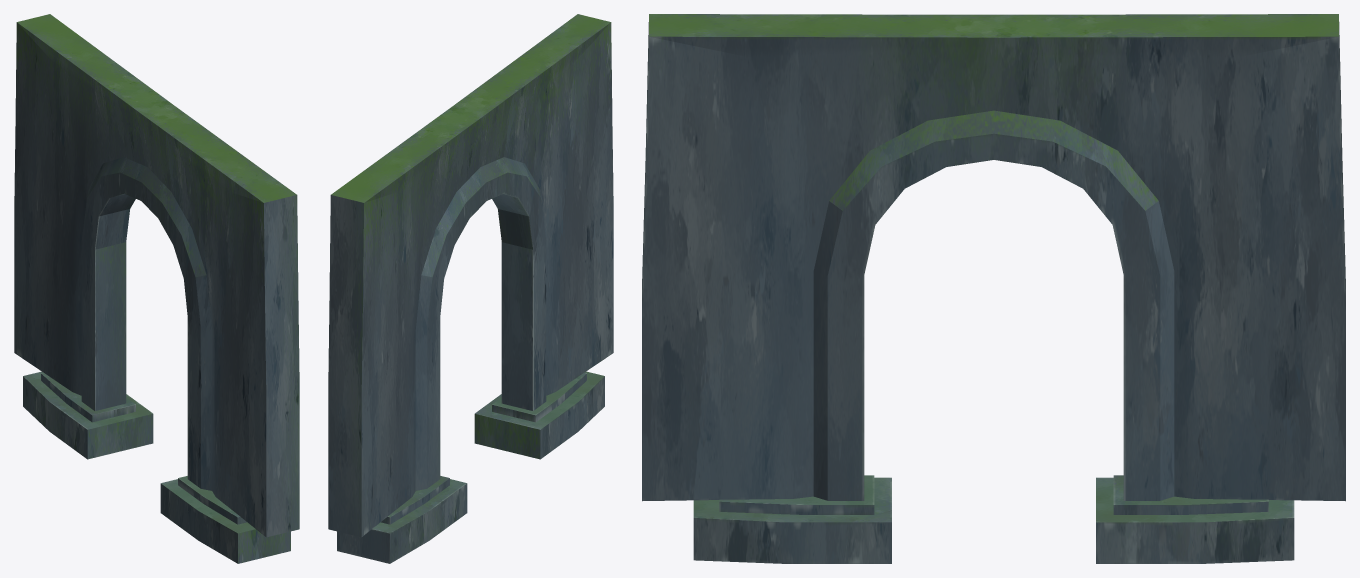
Rendered from Wall_Arch.fbx.
3 views of the same model, side by side, from view 1: azimuth 30°, elevation 25°; view 2: azimuth 150°, elevation 25°; view 3: azimuth 270°, elevation 25° (orthographic). The views are drawn at different scales.
Parts seen in each view (by area): view 1: Wall_Arch; view 2: Wall_Arch; view 3: Wall_Arch.
Part boxes in pixels (left/top/right/bottom): Wall_Arch: left=14, top=14, right=299, bottom=563; Wall_Arch: left=328, top=14, right=613, bottom=563; Wall_Arch: left=642, top=14, right=1345, bottom=563.
Size of the model in its own units: 527 by 2830 by 3492.
